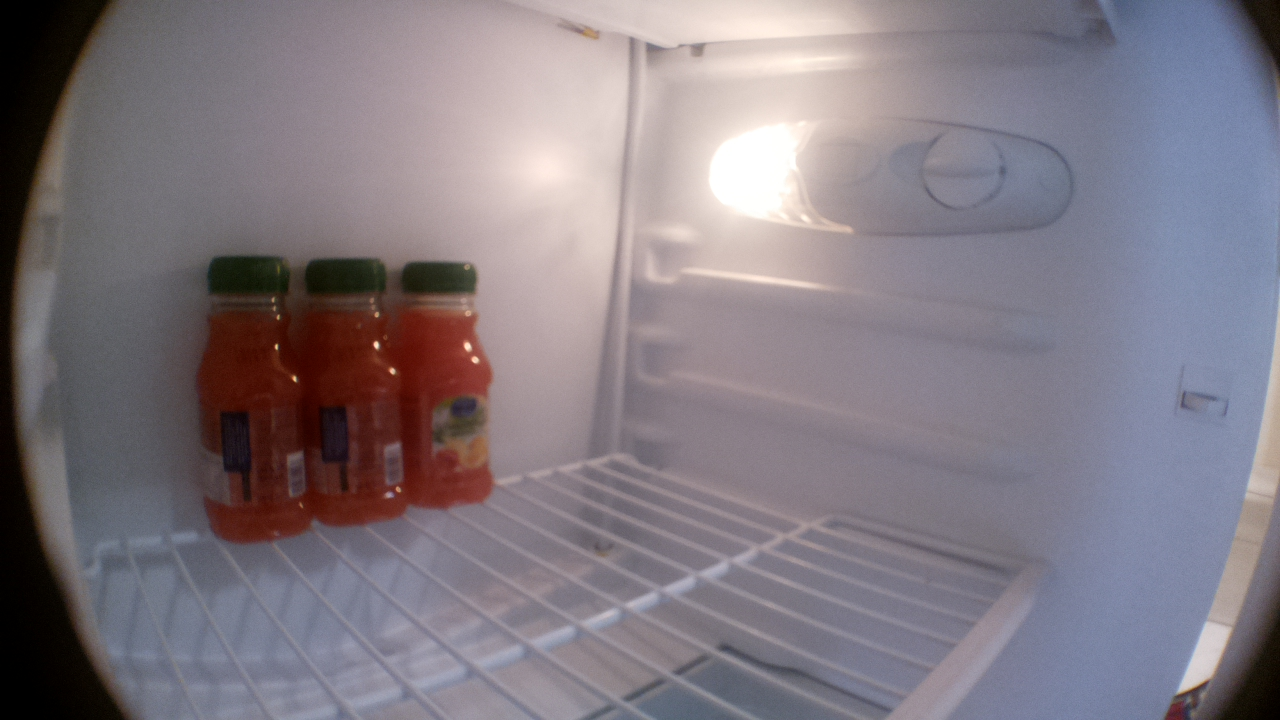juice: (192, 252, 307, 554), (298, 249, 413, 527), (402, 255, 496, 514)
